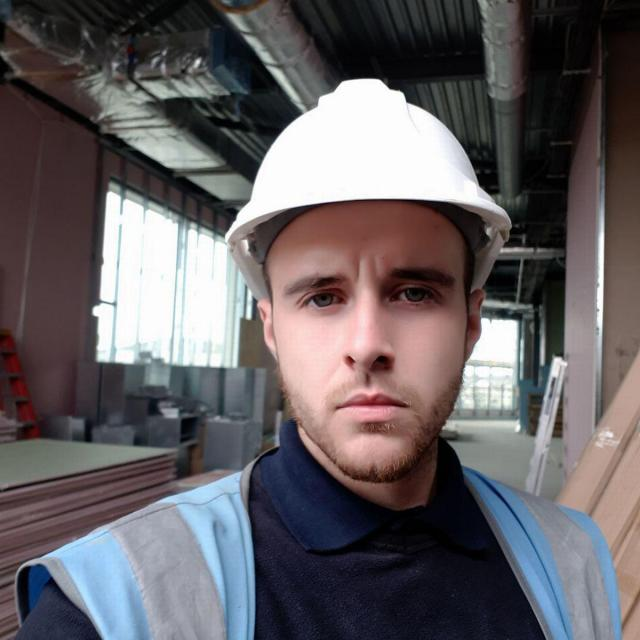hat: (221, 77, 513, 273)
